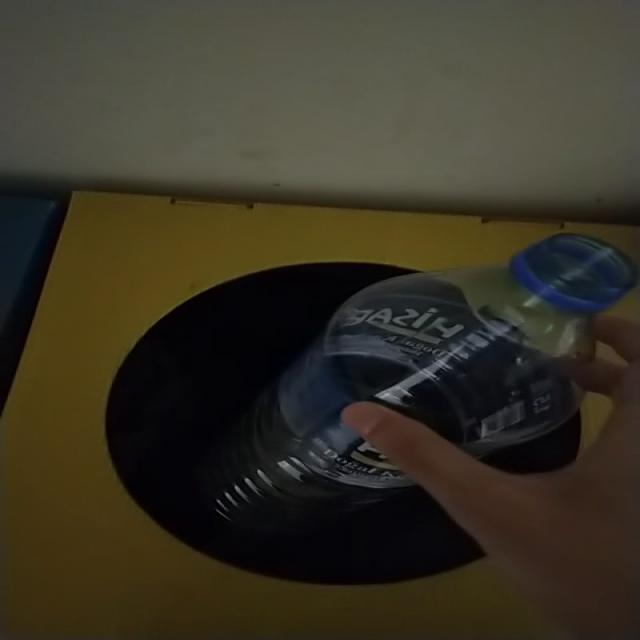plastic: (197, 234, 637, 559)
